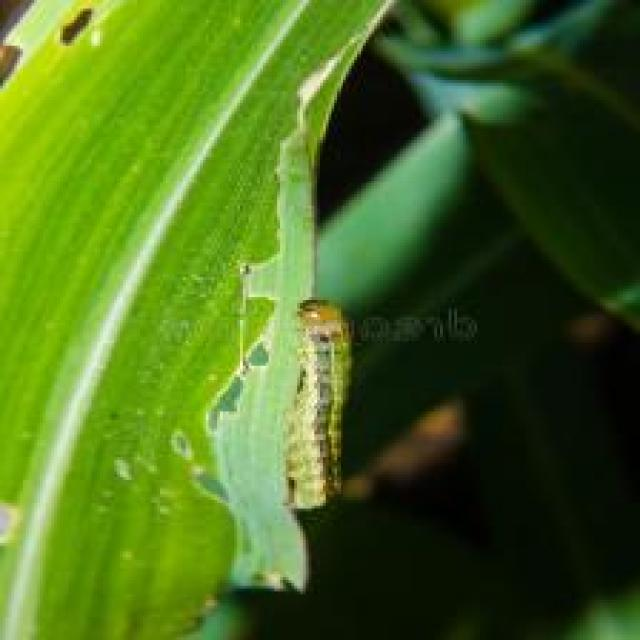Plaga: (253, 298, 370, 524)
